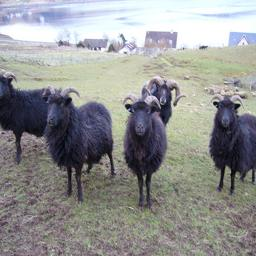sheep: (1, 101, 136, 243), (83, 125, 227, 256), (210, 133, 256, 256), (212, 139, 256, 256), (214, 114, 256, 189)
